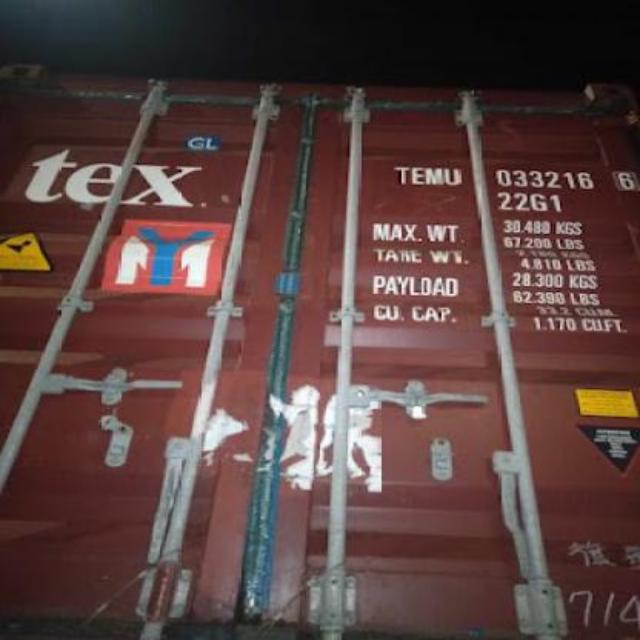0: (496, 169, 512, 185)
1: (564, 172, 576, 188)
2: (544, 172, 560, 186)
3: (512, 169, 528, 187), (528, 170, 544, 188)
6: (616, 172, 636, 190), (578, 172, 594, 190)
E: (410, 166, 426, 184)
M: (426, 167, 442, 185)
T: (394, 167, 410, 185)
U: (444, 167, 462, 185)
